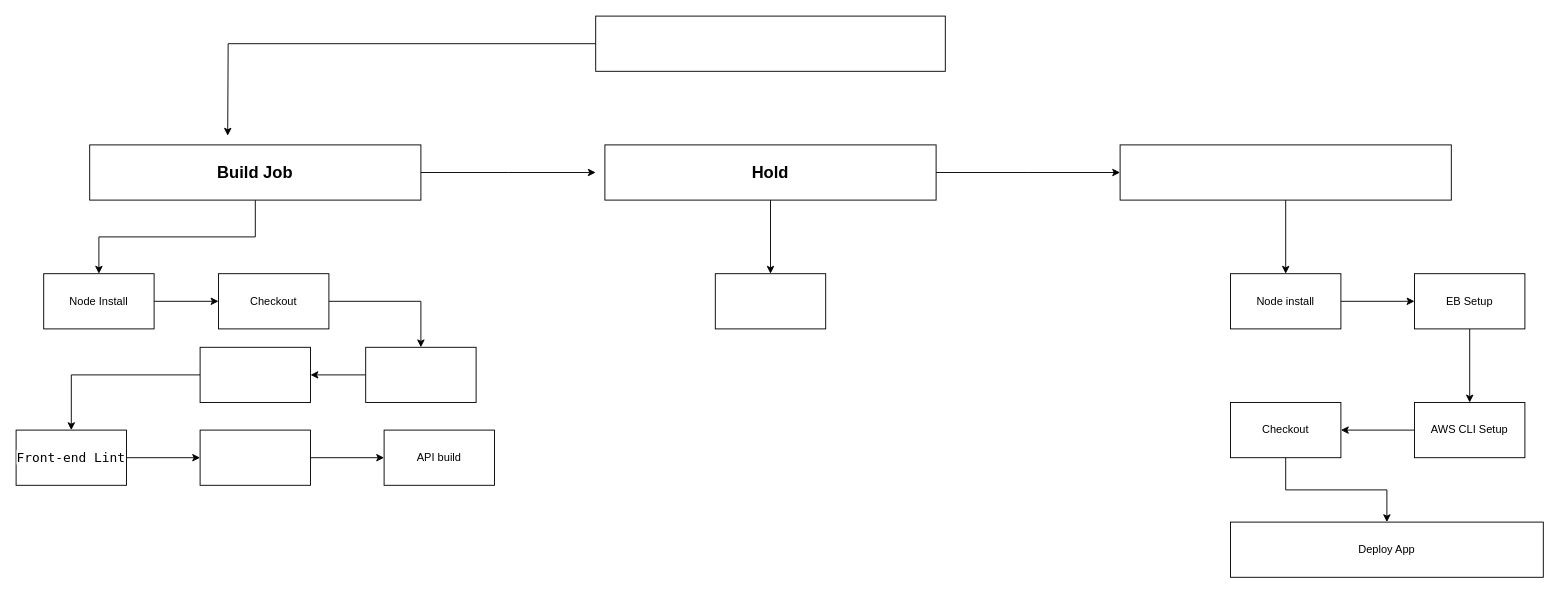
This 1559x593 diagram has some shape labels left out. Each missing label, with the centre of its shape:
"Deploy Job" belongs at pixel 1285 172.
"Front-end Build" belongs at pixel 254 457.
"Install API Dependencies" belongs at pixel 254 374.
"Install Front-End Dependencies" belongs at pixel 420 374.
"Udagram Workflow" belongs at pixel 770 43.
"Waiting Developer confirmation" belongs at pixel 770 301.
